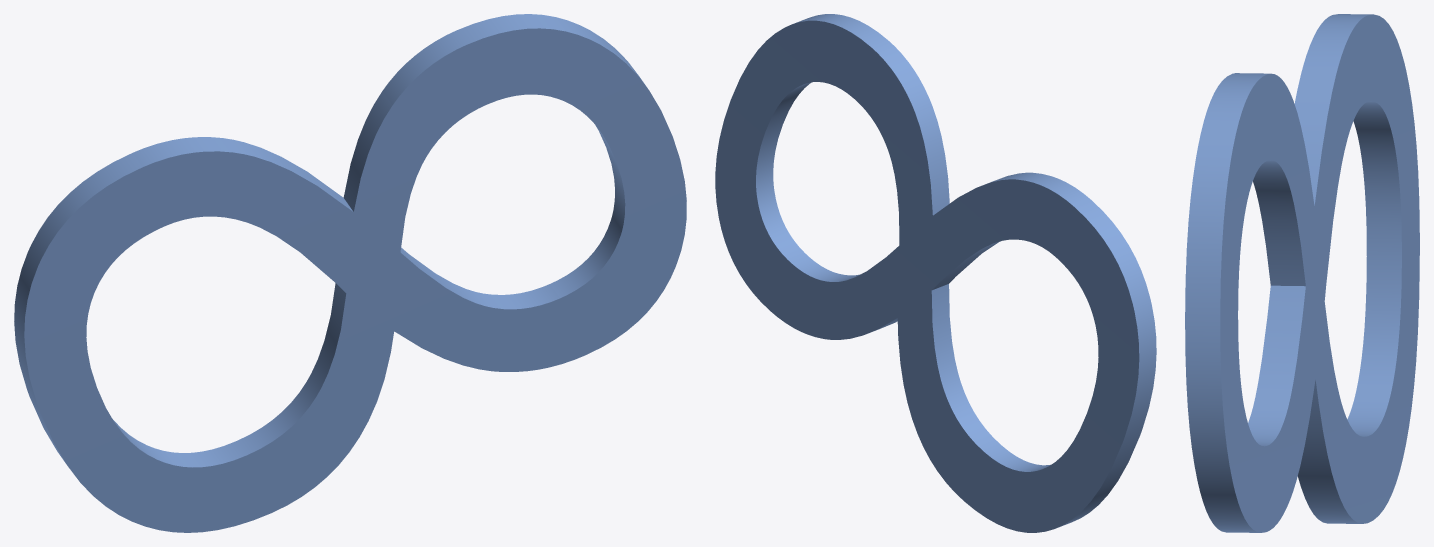
File: New_Number_8.gltf
The picture shows the model from 3 angles, left to right: view 1: azimuth 30°, elevation 25°; view 2: azimuth 150°, elevation 25°; view 3: azimuth 270°, elevation 25°; orthographic projection. The views are drawn at different scales.
Parts seen in each view (by area): view 1: Part 467; view 2: Part 467; view 3: Part 467.
Part boxes in pixels (left/top/right/bottom): Part 467: left=14, top=14, right=686, bottom=532; Part 467: left=715, top=14, right=1156, bottom=532; Part 467: left=1185, top=14, right=1419, bottom=532.
Bounding box in the file's own units: 0.00552 × 0.00438 × 0.00166.
